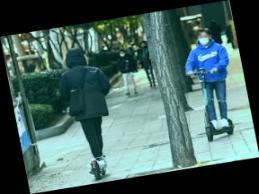nonhelmet: (52, 44, 129, 183), (176, 23, 245, 144)
